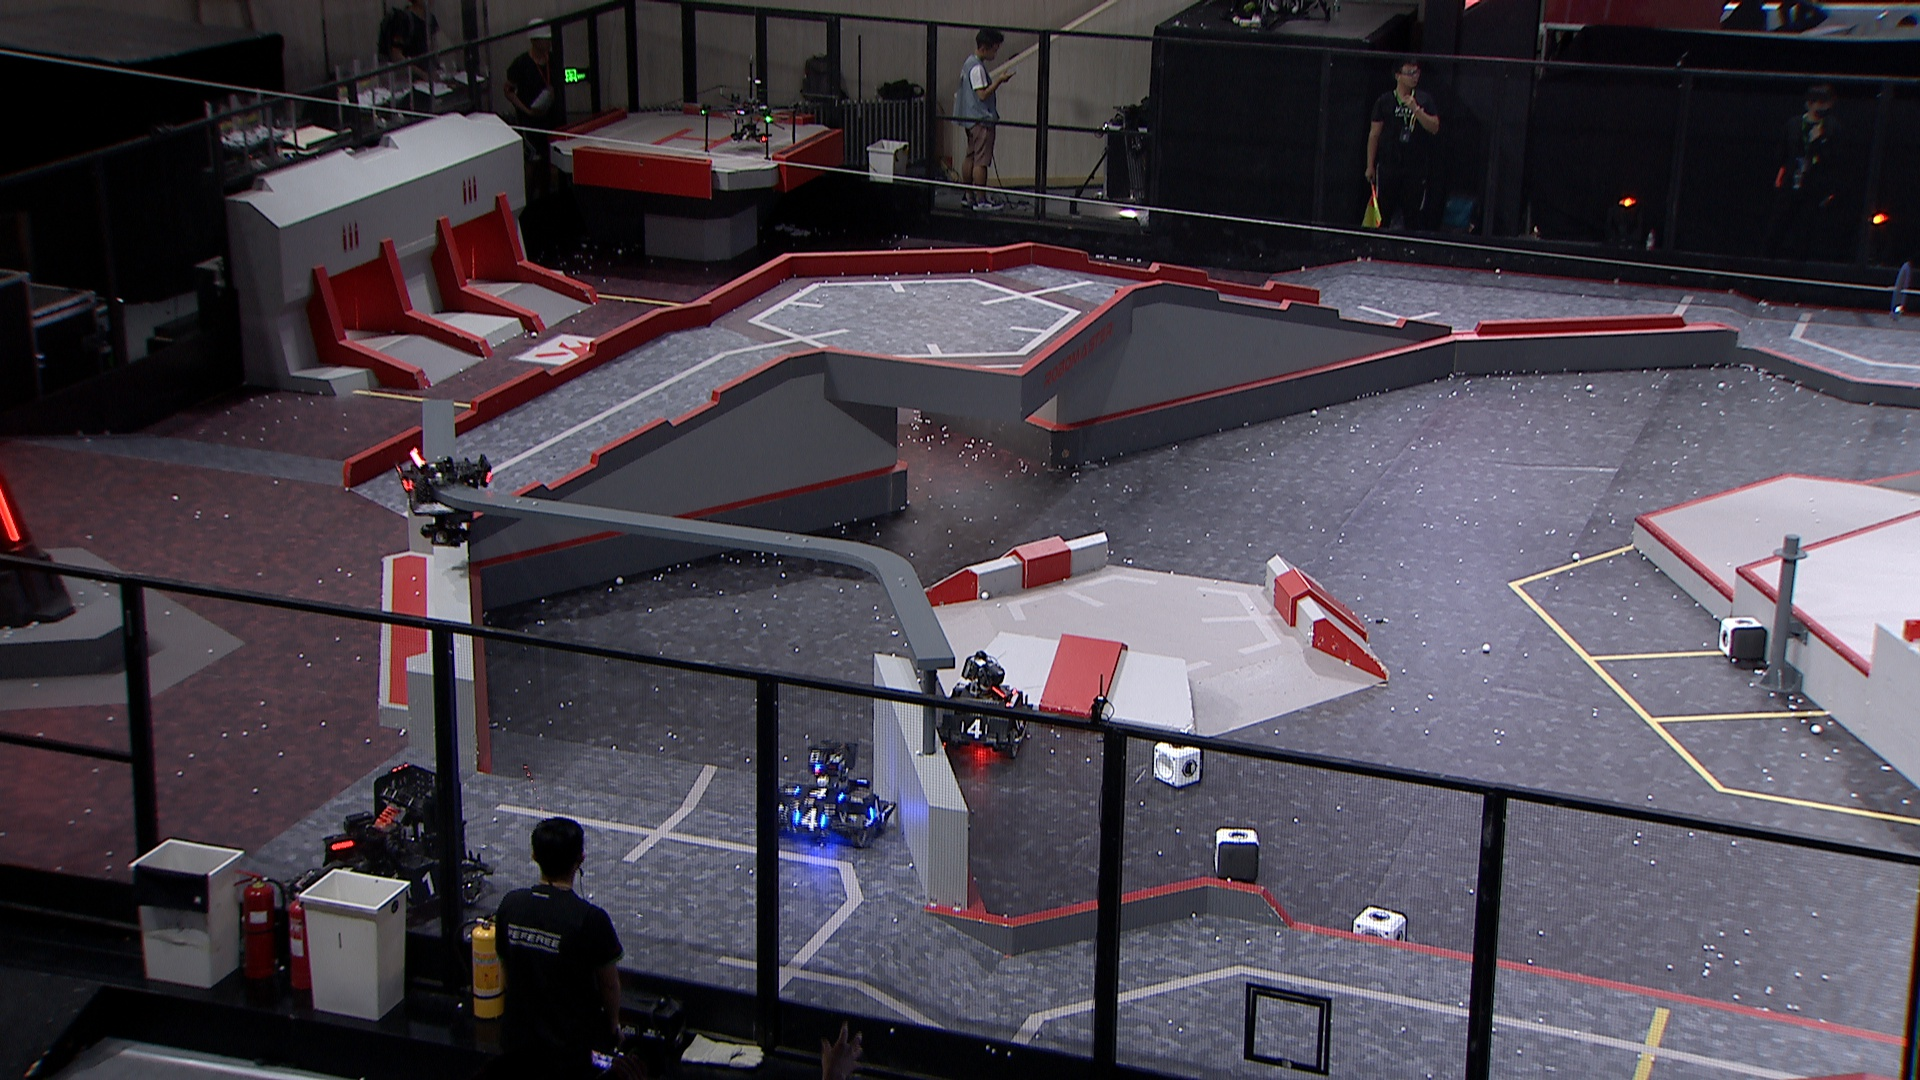armor: (793, 785, 847, 804), (404, 872, 439, 898), (793, 808, 828, 833), (960, 717, 992, 741), (392, 463, 414, 493), (866, 800, 887, 825)
car: (286, 761, 496, 935), (775, 735, 898, 851), (934, 651, 1036, 760)
watcher: (392, 444, 491, 550)
